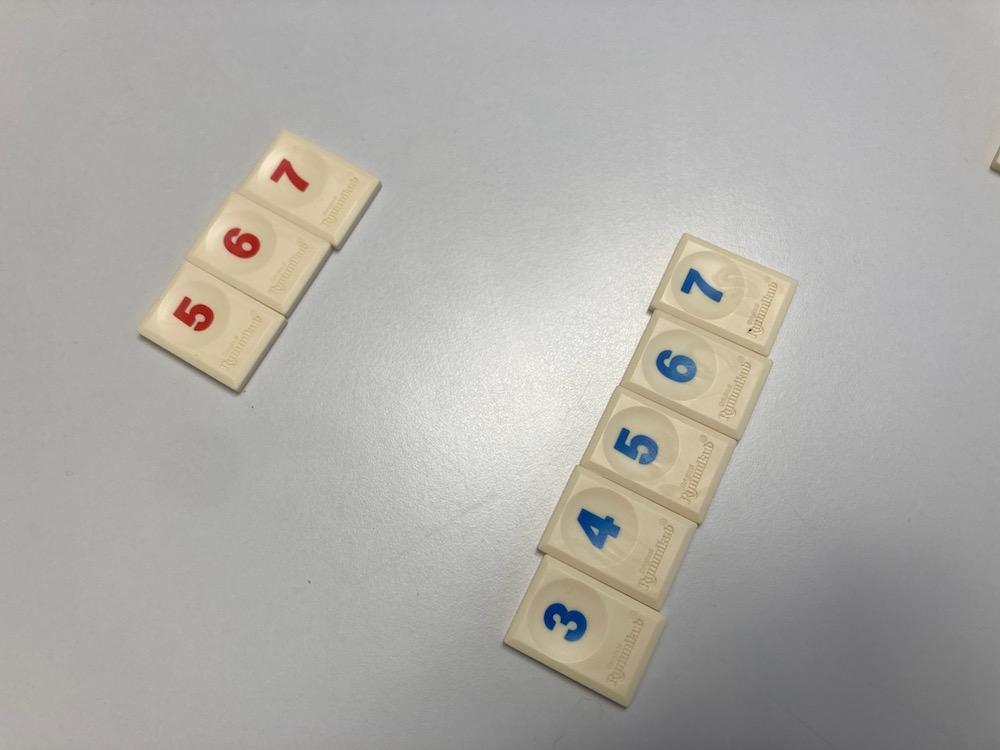blue_3: (506, 555, 664, 705)
blue_4: (539, 467, 697, 609)
blue_5: (582, 387, 736, 523)
blue_6: (622, 311, 771, 439)
blue_7: (651, 234, 797, 355)
red_5: (140, 262, 285, 391)
red_6: (186, 193, 330, 314)
red_7: (238, 129, 379, 248)
